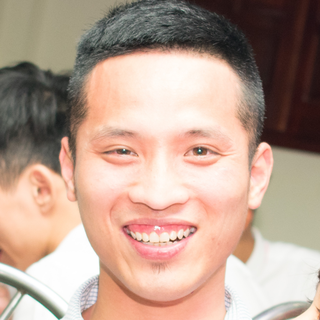eye: (179, 141, 225, 165), (97, 142, 145, 165)
